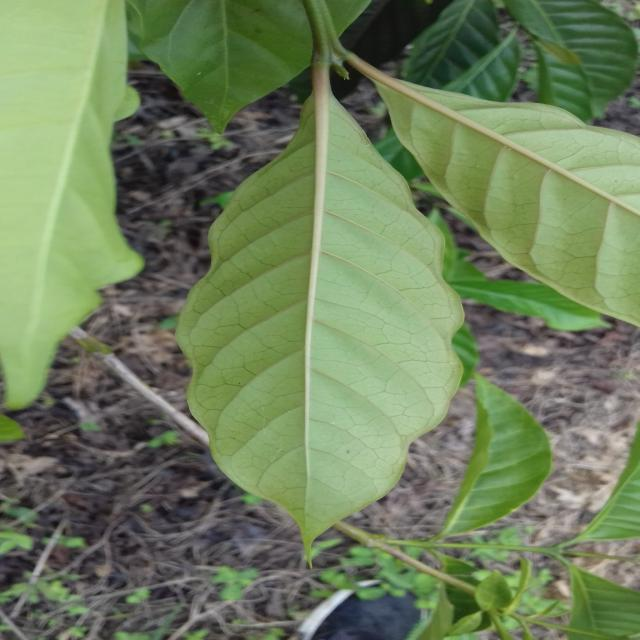Sanas: (176, 71, 471, 549)
